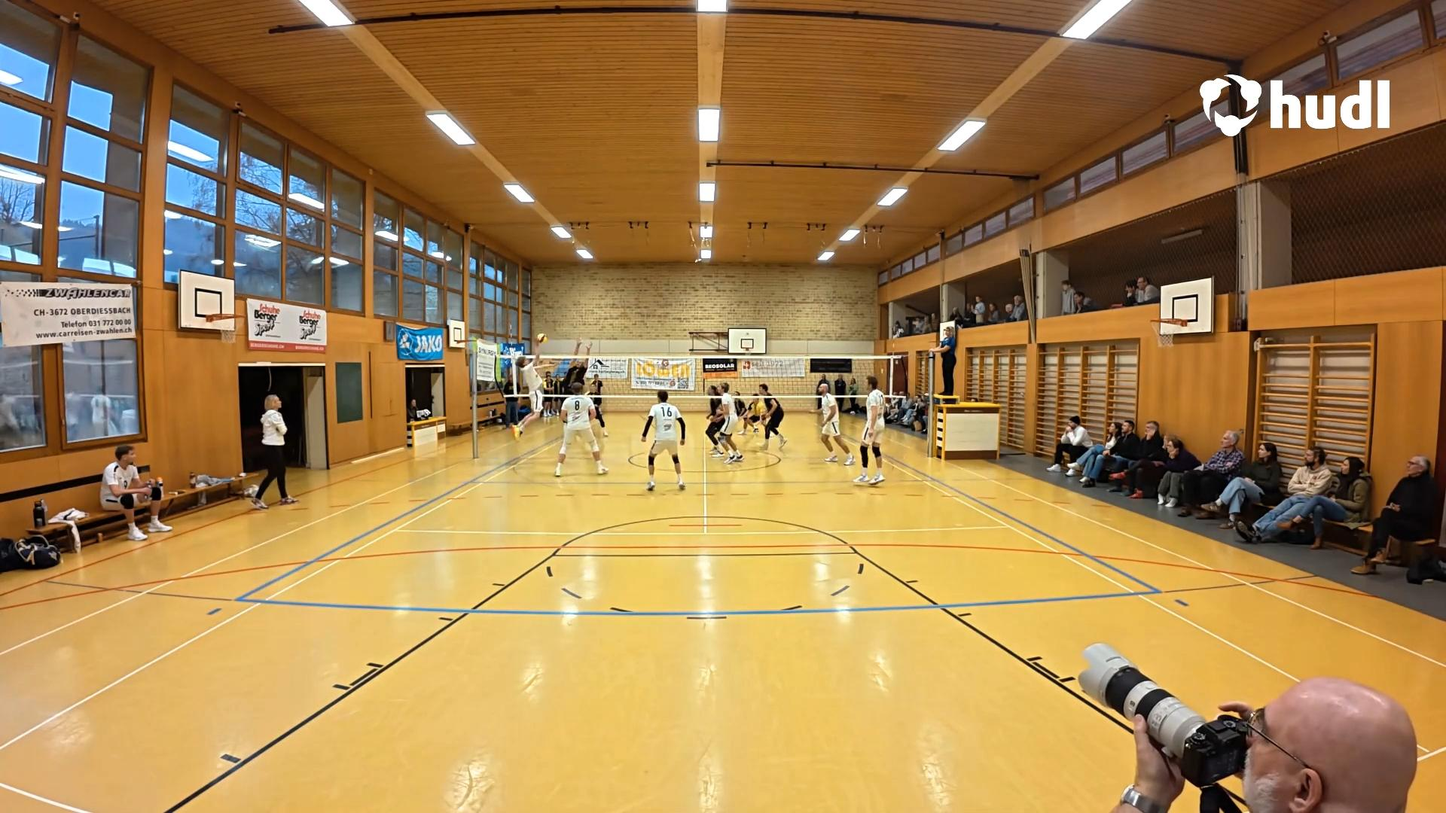Attack: (506, 326, 548, 444)
Block: (557, 335, 592, 393)
Player: (853, 369, 892, 487), (550, 377, 595, 477), (644, 389, 685, 493), (814, 376, 854, 463), (709, 386, 743, 466), (754, 383, 786, 459), (585, 376, 610, 434), (705, 384, 721, 449), (744, 389, 766, 434), (728, 388, 747, 429)
ball: (535, 329, 547, 348)
